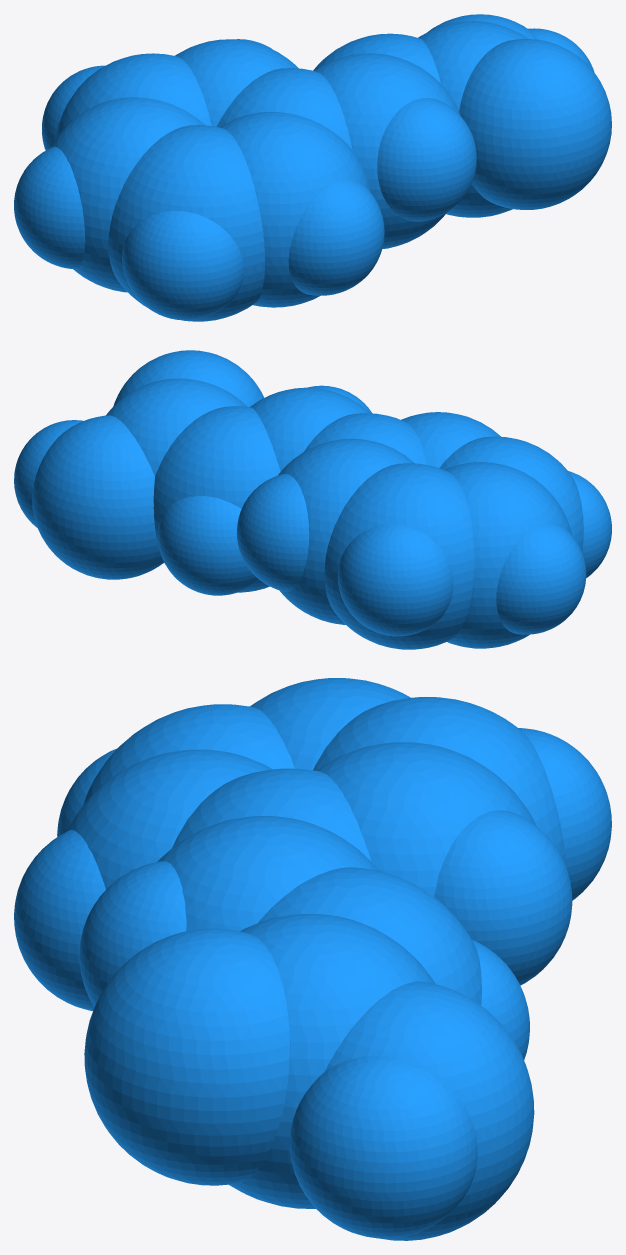
File: 444539-cpk-print_mr_NIH3D.glb
3 views of the same model, one above another, from view 1: azimuth 30°, elevation 25°; view 2: azimuth 150°, elevation 25°; view 3: azimuth 270°, elevation 25° (orthographic). The views are drawn at different scales.
Parts seen in each view (by area): view 1: 444539-cpk-print_NIH3D_mr; view 2: 444539-cpk-print_NIH3D_mr; view 3: 444539-cpk-print_NIH3D_mr.
Part boxes in pixels (x1,y1,x2,y2): 444539-cpk-print_NIH3D_mr: (14, 14, 611, 321); 444539-cpk-print_NIH3D_mr: (14, 350, 611, 649); 444539-cpk-print_NIH3D_mr: (14, 678, 611, 1240).
Size of the model in its own units: 11.5 by 3.77 by 6.88.
